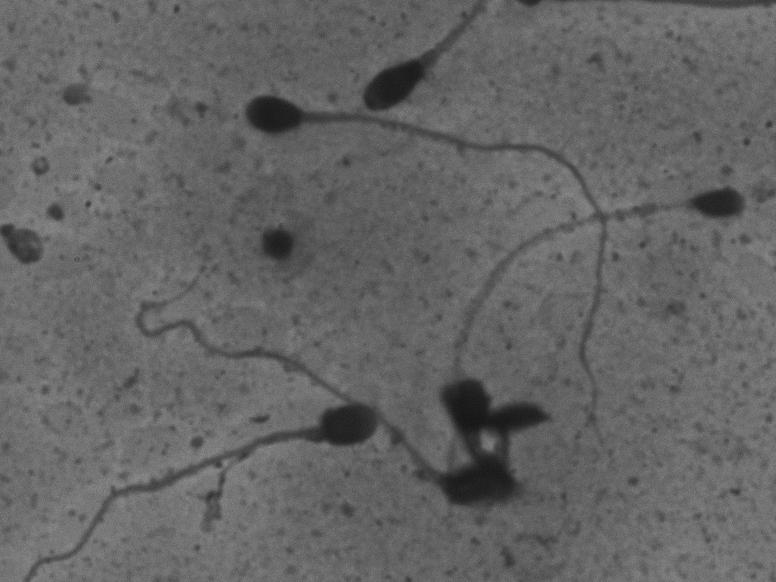Abnormal: (423, 166, 752, 388), (19, 393, 384, 579), (334, 3, 480, 117)
Normal: (231, 79, 616, 452)
